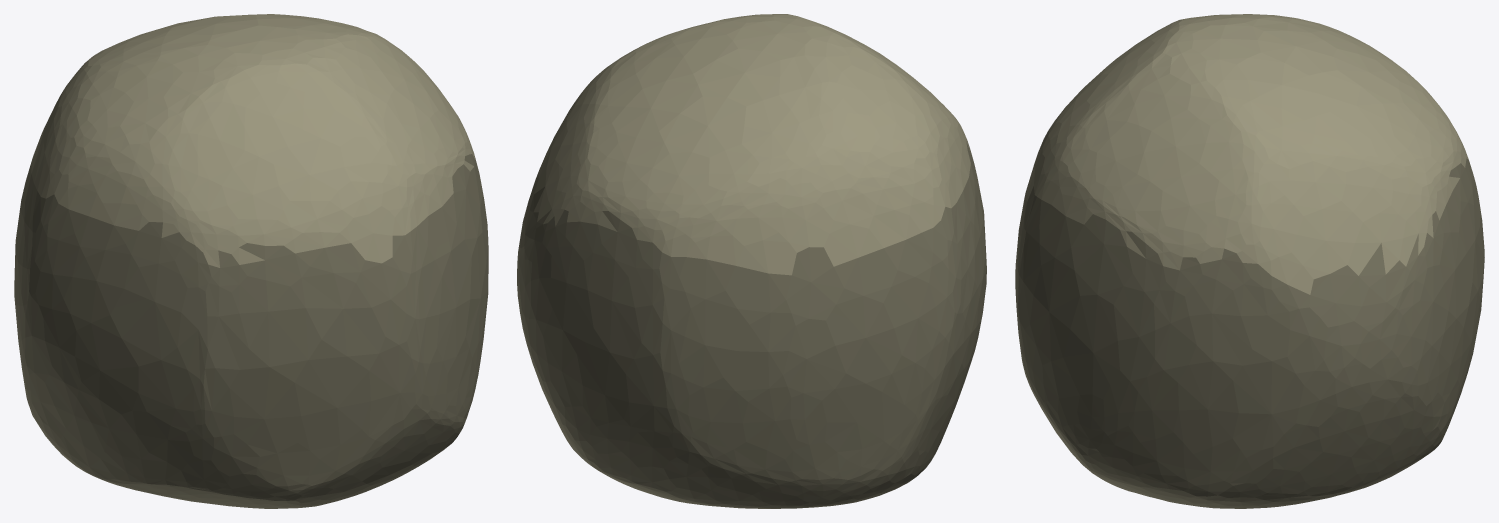
The model's file is VAULT_BOULDER.hi.glb.
3 renders of one model, left to right at view 1: azimuth 30°, elevation 25°; view 2: azimuth 150°, elevation 25°; view 3: azimuth 270°, elevation 25°, orthographic. The views are drawn at different scales.
Visible parts, largest first — view 1: Body_Mesh; view 2: Body_Mesh; view 3: Body_Mesh.
Boxes of the visible parts, <box> form: Body_Mesh: <box>14,14,488,508</box>; Body_Mesh: <box>517,14,986,508</box>; Body_Mesh: <box>1015,14,1484,508</box>.
Bounding box in the file's own units: 1 × 1 × 0.9962.
